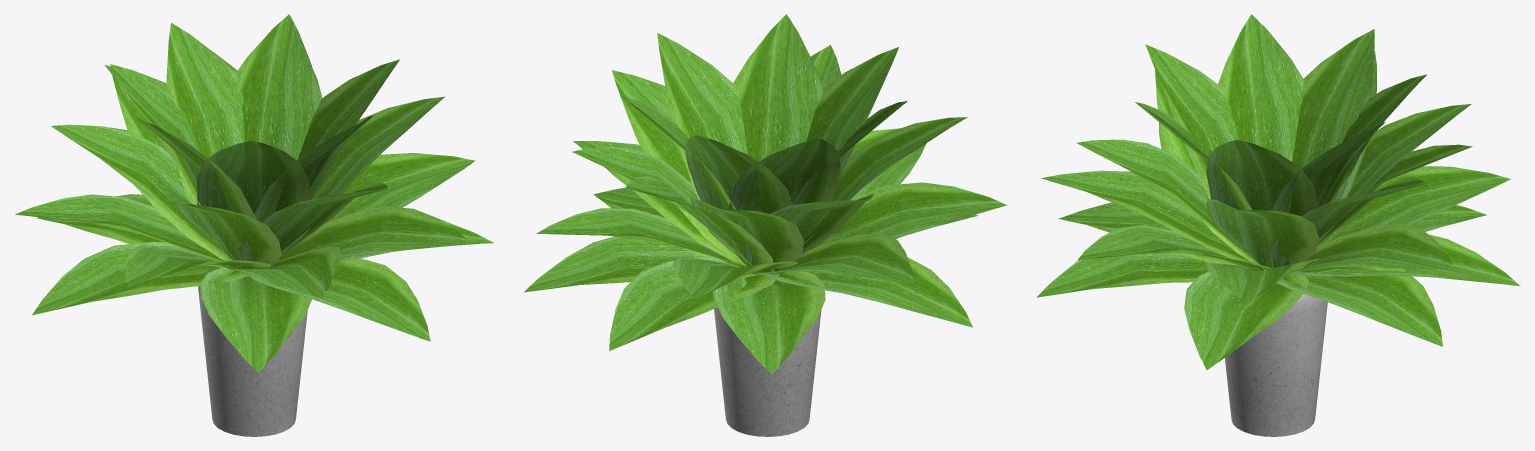
Rendered from plant1.FBX.
The picture shows the model from 3 angles, left to right: view 1: azimuth 30°, elevation 25°; view 2: azimuth 150°, elevation 25°; view 3: azimuth 270°, elevation 25°; orthographic projection.
Parts seen in each view (by area): view 1: Cone001, Plane028, Plane027, Plane005, Plane012, Plane017, Plane004, Plane006, Plane024, Plane011, Plane008, Plane021 (+12 smaller); view 2: Plane023, Cone001, Plane001, Plane022, Plane014, Plane007, Plane002, Plane006, Plane024, Plane026, Plane008, Plane027 (+14 smaller); view 3: Cone001, Plane025, Plane026, Plane003, Plane002, Plane009, Plane022, Plane024, Plane010, Plane013, Plane004, Plane021 (+14 smaller).
Boxes of the visible parts, x1,y1,x2,y2 form: Cone001: [198, 286, 307, 436]; Plane028: [236, 14, 320, 160]; Plane027: [166, 22, 244, 205]; Plane005: [200, 267, 311, 372]; Plane012: [278, 206, 471, 260]; Plane017: [51, 124, 232, 260]; Plane004: [247, 258, 430, 341]; Plane006: [32, 241, 248, 315]; Plane024: [197, 141, 309, 262]; Plane011: [325, 153, 475, 223]; Plane008: [15, 194, 223, 260]; Plane021: [281, 96, 444, 254]; Plane023: [733, 14, 823, 161]; Cone001: [714, 307, 821, 436]; Plane001: [713, 271, 825, 374]; Plane022: [657, 33, 747, 263]; Plane014: [782, 182, 1006, 272]; Plane007: [609, 256, 780, 350]; Plane002: [523, 236, 762, 292]; Plane006: [762, 257, 972, 327]; Plane024: [806, 47, 898, 201]; Plane026: [728, 138, 840, 211]; Plane008: [755, 232, 913, 282]; Plane027: [685, 135, 792, 270]; Cone001: [1225, 294, 1327, 436]; Plane025: [1218, 14, 1304, 161]; Plane026: [1292, 29, 1374, 202]; Plane003: [1184, 264, 1308, 369]; Plane002: [1276, 267, 1442, 346]; Plane009: [1298, 166, 1510, 269]; Plane022: [1206, 140, 1318, 216]; Plane024: [1145, 44, 1256, 263]; Plane010: [1293, 223, 1454, 272]; Plane013: [1041, 170, 1258, 269]; Plane004: [1036, 253, 1218, 297]; Plane021: [1206, 199, 1319, 269].
Bounding box in the file's own units: 115 × 88.76 × 114.
2 materials, 2 textured.
